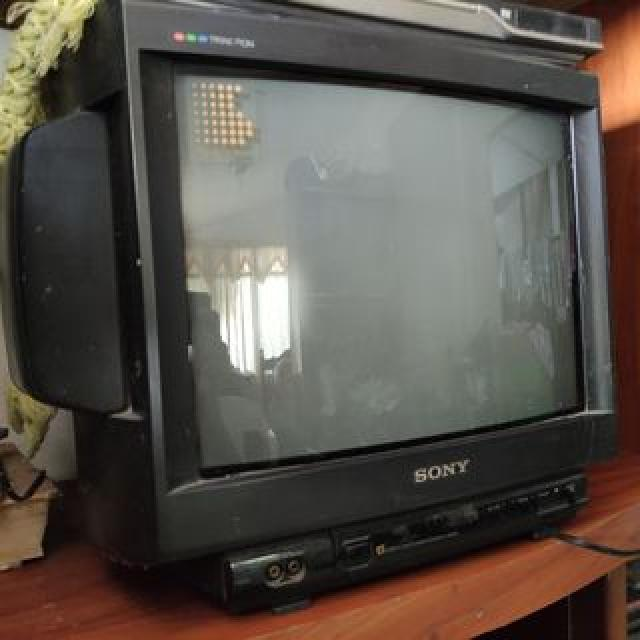electronics: (2, 2, 612, 604), (176, 70, 574, 466), (200, 472, 584, 606), (4, 110, 120, 406), (282, 0, 600, 54), (0, 444, 44, 500), (626, 562, 634, 600), (626, 612, 636, 632)
